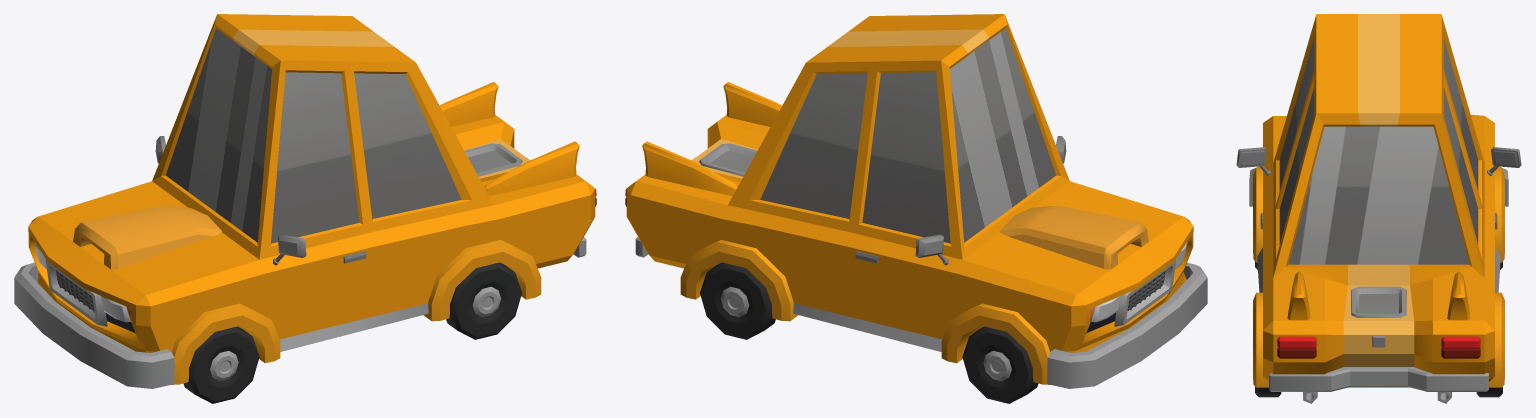
File: Car_11_A.gltf
The picture shows the model from 3 angles, left to right: view 1: azimuth 30°, elevation 25°; view 2: azimuth 150°, elevation 25°; view 3: azimuth 270°, elevation 25°; orthographic projection.
Parts seen in each view (by area): view 1: Car_11_A, RL, FL; view 2: Car_11_A, RR, FR; view 3: Car_11_A.
Part boxes in pixels (<box>): Car_11_A: <box>14,14,596,388</box>; RL: <box>446,262,521,339</box>; FL: <box>183,326,259,403</box>; Car_11_A: <box>625,14,1207,388</box>; RR: <box>700,262,775,339</box>; FR: <box>962,326,1038,403</box>; Car_11_A: <box>1236,14,1521,403</box>.
Size of the model in its own units: 3.58 by 2.1 by 1.85.
3 materials, 3 textured.
